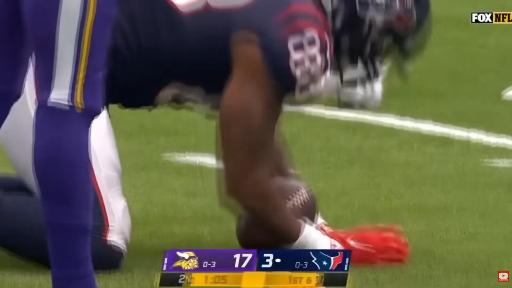Helmet: (322, 0, 431, 79)
Jersey: (107, 0, 331, 108)
Player: (107, 0, 420, 262), (0, 0, 116, 287), (323, 1, 431, 108), (0, 66, 50, 266)
